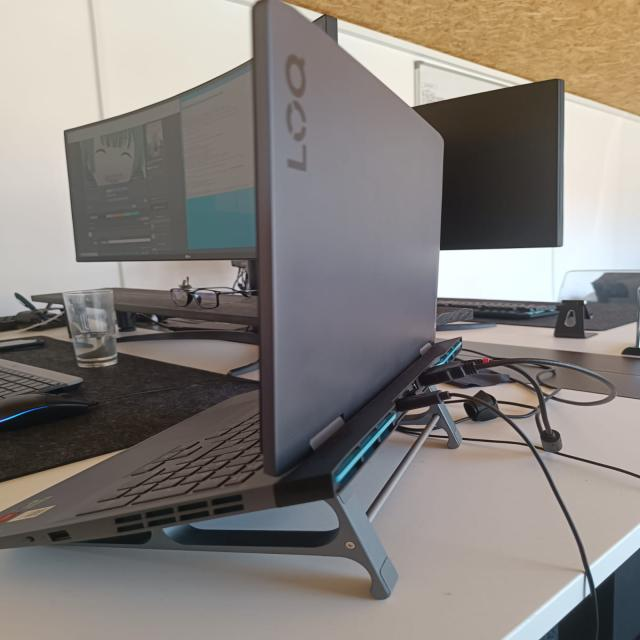Laptops_bbox: (9, 0, 554, 611)
